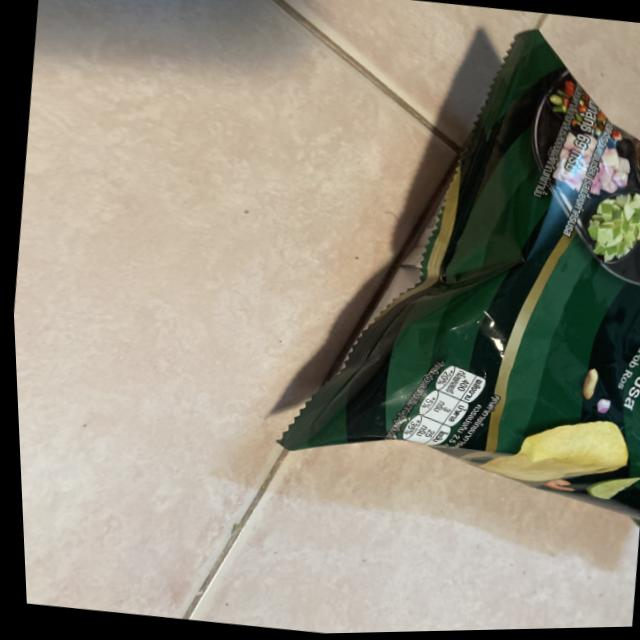Laygreen: (236, 0, 640, 534)
